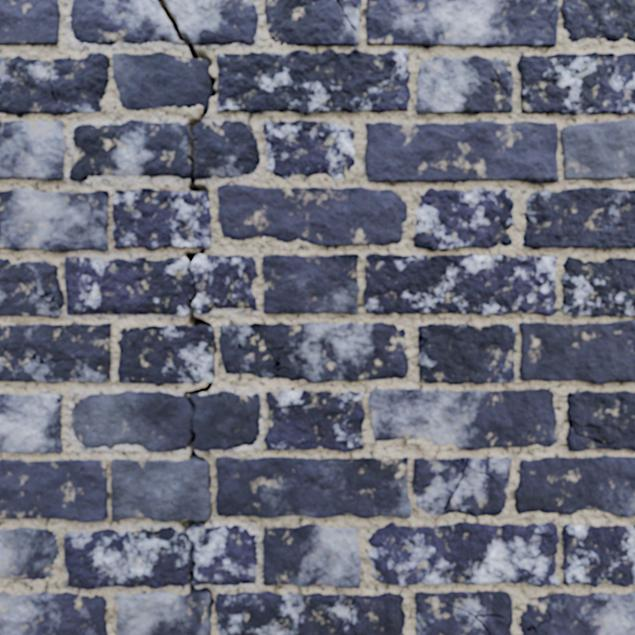broken_brick: (65, 254, 256, 315), (72, 391, 260, 451), (64, 526, 187, 589), (69, 120, 191, 181), (70, 0, 184, 44), (187, 525, 257, 585), (165, 0, 258, 45), (193, 120, 260, 179)
crack: (112, 0, 410, 279), (111, 426, 405, 634), (365, 0, 634, 48), (118, 283, 216, 411), (368, 522, 559, 587), (363, 253, 557, 316), (365, 121, 558, 183), (216, 457, 412, 518), (217, 184, 407, 246), (368, 388, 557, 450), (219, 322, 408, 382), (514, 455, 634, 517), (517, 52, 634, 115), (519, 320, 634, 384), (0, 188, 109, 252), (522, 187, 634, 249), (0, 52, 109, 115), (0, 459, 107, 522), (0, 323, 111, 382), (264, 390, 365, 452), (414, 188, 513, 251), (263, 524, 361, 587), (412, 457, 511, 516), (418, 324, 515, 384), (262, 254, 359, 314), (416, 55, 513, 114), (263, 120, 355, 179), (519, 592, 634, 634), (562, 523, 634, 587), (560, 119, 634, 180), (0, 592, 107, 634), (265, 0, 361, 46), (561, 257, 634, 317), (415, 591, 512, 634), (566, 390, 634, 451), (0, 120, 66, 180), (0, 393, 62, 453), (0, 259, 64, 317), (0, 527, 59, 579), (0, 0, 60, 45)
